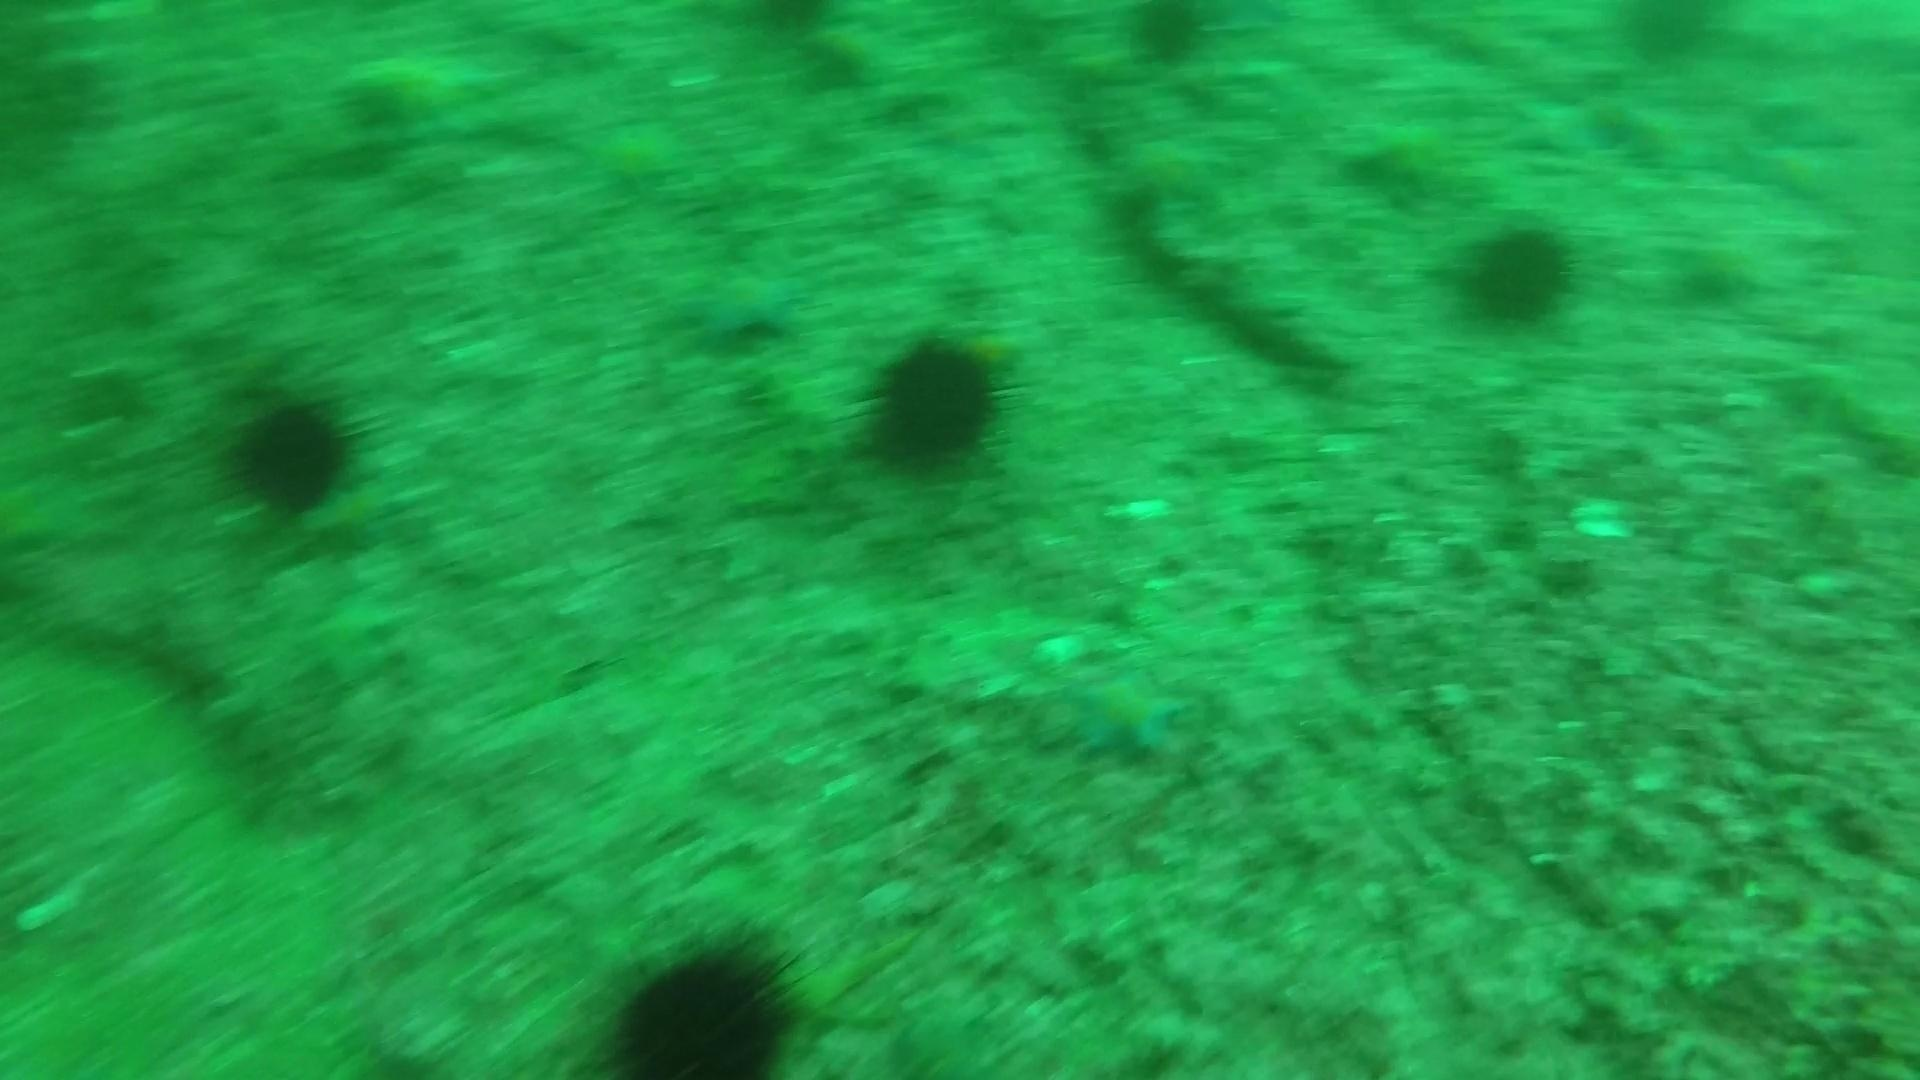echinus: (597, 926, 811, 1077), (853, 324, 1021, 480), (219, 384, 372, 524), (1449, 215, 1582, 334), (1607, 1, 1729, 70), (1117, 0, 1220, 71)
starfish: (334, 37, 506, 141), (1056, 659, 1193, 769), (1331, 105, 1474, 204), (670, 255, 812, 351), (1106, 123, 1234, 218), (579, 109, 695, 195)
